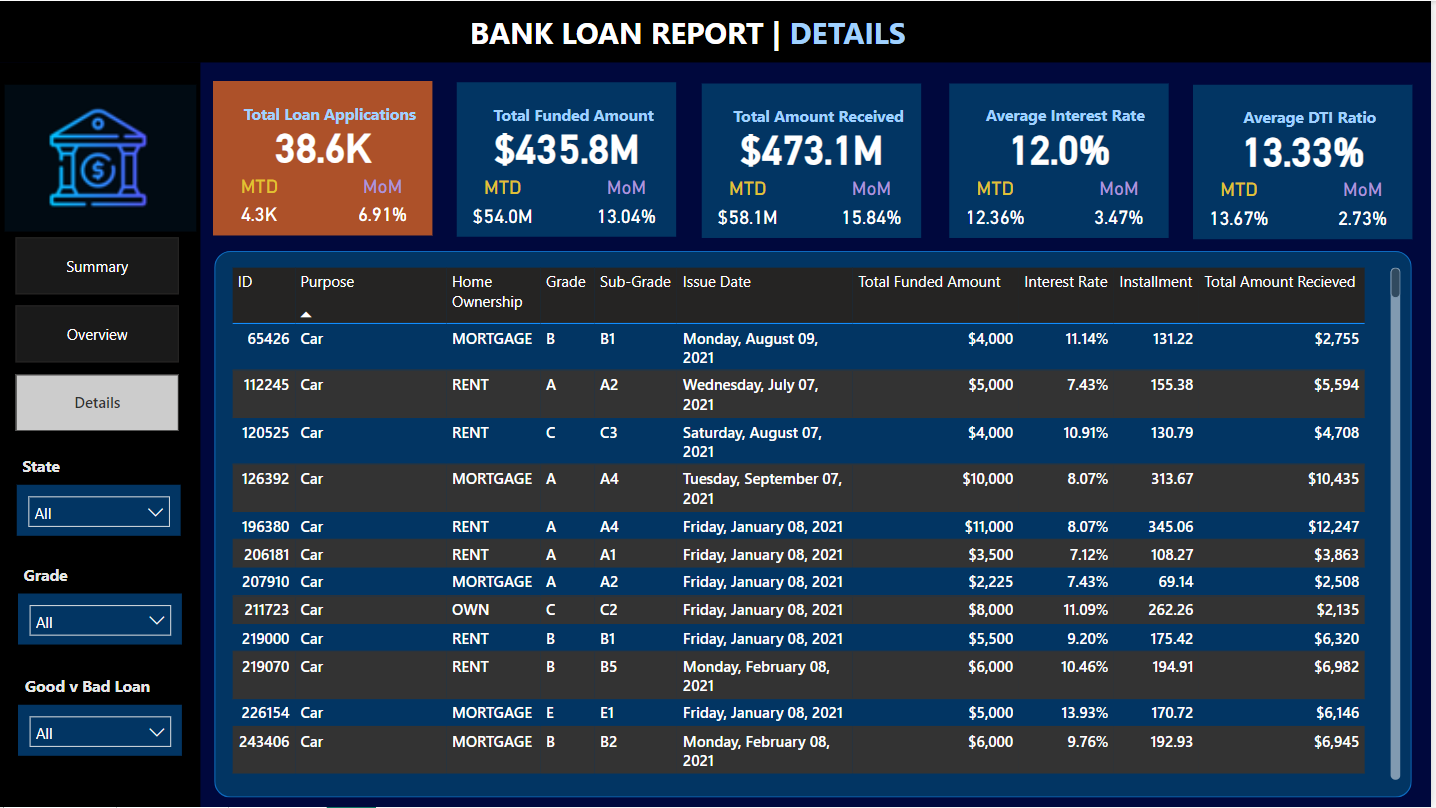

Layout of this report page (visuals, bound fields, positions):
{"tool":"powerbi","page":{"name":"Details","canvas":[1280,720],"ordinal":2},"visuals":[{"type":"shape","box":[0,0,1280.3,54.9],"z":0},{"type":"shape","box":[0,54.7,180.9,665.5],"z":1000},{"type":"group","id":"g1","title":"Group 1","box":[192.1,71.5,196.5,137.3],"z":2000},{"type":"shape","box":[192.1,71.5,196,138],"z":3000,"group":"g1"},{"type":"group","id":"g2","title":"Group 1","box":[409.8,72.6,195.4,137.3],"z":3000},{"type":"shape","box":[409.8,72.6,196,138],"z":3000,"group":"g2"},{"type":"shape","box":[628.7,73.7,196,138],"z":3000,"group":"g3"},{"type":"shape","box":[849.8,73.7,196,138],"z":3000,"group":"g4"},{"type":"shape","box":[1067.5,74.8,196,138],"z":3000,"group":"g5"},{"type":"group","id":"g3","title":"Group 1","box":[628.7,73.7,196.5,136.2],"z":4000},{"type":"card","fields":{"Values":["financial_loan.Total Loan Applications"]},"box":[204.1,101.5,172,54],"z":4000,"group":"g1"},{"type":"card","fields":{"Values":["financial_loan.Total Funded Amount"]},"box":[421.8,102.6,172,54],"z":4000,"group":"g2"},{"type":"card","fields":{"Values":["financial_loan.Total Amount Recieved"]},"box":[640.7,103.7,172,54],"z":4000,"group":"g3"},{"type":"card","fields":{"Values":["financial_loan.Average Interest Rate"]},"box":[861.8,103.7,172,54],"z":4000,"group":"g4"},{"type":"card","fields":{"Values":["financial_loan.Average DTI Ratio"]},"box":[1079.5,104.8,172,54],"z":4000,"group":"g5"},{"type":"group","id":"g4","title":"Group 1","box":[849.8,73.7,195.4,137.3],"z":5000},{"type":"textbox","box":[204.1,85.5,184,30],"z":5000,"group":"g1"},{"type":"textbox","box":[421.8,86.6,184,30],"z":5000,"group":"g2"},{"type":"textbox","box":[861.1,87.5,184.9,30.2],"z":5000,"group":"g4"},{"type":"textbox","box":[640.7,87.7,184,30],"z":5000,"group":"g3"},{"type":"textbox","box":[1079.5,88.8,184,30],"z":5000,"group":"g5"},{"type":"group","id":"g5","title":"Group 1","box":[1067.5,74.8,196.5,136.2],"z":6000},{"type":"card","title":"MTD","fields":{"Values":["financial_loan.MTD Loan Applications"]},"box":[204.1,155.5,58,54],"z":6000,"group":"g1"},{"type":"card","title":"MTD","fields":{"Values":["financial_loan.MTD Funded Amount"]},"box":[409.8,156.6,82,54],"z":6000,"group":"g2"},{"type":"card","title":"MTD","fields":{"Values":["financial_loan.MTD Amount Recieved"]},"box":[628.7,157.7,82,54],"z":6000,"group":"g3"},{"type":"card","title":"MTD","fields":{"Values":["financial_loan.MTD Average Interest Rate"]},"box":[849.8,157.7,82,54],"z":6000,"group":"g4"},{"type":"card","title":"MTD","fields":{"Values":["financial_loan.MTD Average DTI Ratio"]},"box":[1067.5,158.8,82,54],"z":6000,"group":"g5"},{"type":"shape","box":[193,223.3,1069.8,488.4],"z":7000},{"type":"card","title":"MoM","fields":{"Values":["financial_loan.MoM Loan Applicstion"]},"box":[312.1,155.5,64,54],"z":8000,"group":"g1"},{"type":"card","title":"MoM","fields":{"Values":["financial_loan.MoM Funded Amount"]},"box":[529.8,156.6,64,54],"z":8000,"group":"g2"},{"type":"card","title":"MoM","fields":{"Values":["financial_loan.MoM Amount Recieved"]},"box":[748.7,157.7,64,54],"z":8000,"group":"g3"},{"type":"card","title":"MoM","fields":{"Values":["financial_loan.MoM Average Interest Rate"]},"box":[969.8,157.7,64,54],"z":8000,"group":"g4"},{"type":"card","title":"MoM","fields":{"Values":["financial_loan.MoM Average DTI Ratio"]},"box":[1187.5,158.8,64,54],"z":8000,"group":"g5"},{"type":"textbox","box":[16.8,401.1,72,31.2],"z":8000},{"type":"slicer","fields":{"Values":["financial_loan.address_state"]},"box":[16.8,432.3,146.5,45.6],"z":9000},{"type":"textbox","box":[18.2,498.5,72,31.2],"z":10000},{"type":"slicer","fields":{"Values":["financial_loan.grade"]},"box":[18.2,529.7,146.5,45.6],"z":11000},{"type":"textbox","box":[18.6,597.7,134.9,31.4],"z":12000},{"type":"slicer","fields":{"Values":["financial_loan.Good v Bad Loans"]},"box":[18.2,628.6,146.5,45.6],"z":13000},{"type":"tableEx","fields":{"Values":["financial_loan.id","financial_loan.purpose","financial_loan.home_ownership","financial_loan.grade","financial_loan.sub_grade","financial_loan.issue_date","financial_loan.Total Funded Amount","Sum(financial_loan.int_rate)","Sum(financial_loan.installment)","financial_loan.Total Amount Recieved"]},"box":[203.5,233.7,1054.7,467.4],"z":16000},{"type":"textbox","box":[416,4,448,48],"z":17000},{"type":"pageNavigator","box":[15.9,211.5,146.3,173.1],"z":18000},{"type":"image","box":[1.1,32.4,180.9,215.5],"z":19000}]}

Visuals, with their boxes in screenshot pixels (x1, y1, x2, y2), scaled from the page's 1280x720 canvas onto the 1436x808 screenshot:
shape: bbox=(0, 0, 1435, 62)
shape: bbox=(0, 61, 203, 807)
"Group 1" group: bbox=(216, 80, 436, 234)
shape: bbox=(216, 80, 435, 235)
"Group 1" group: bbox=(460, 81, 679, 236)
shape: bbox=(460, 81, 680, 236)
shape: bbox=(705, 83, 925, 238)
shape: bbox=(953, 83, 1173, 238)
shape: bbox=(1198, 84, 1417, 239)
"Group 1" group: bbox=(705, 83, 926, 236)
card - financial_loan.Total Loan Applications: bbox=(229, 114, 422, 175)
card - financial_loan.Total Funded Amount: bbox=(473, 115, 666, 176)
card - financial_loan.Total Amount Recieved: bbox=(719, 116, 912, 177)
card - financial_loan.Average Interest Rate: bbox=(967, 116, 1160, 177)
card - financial_loan.Average DTI Ratio: bbox=(1211, 118, 1404, 178)
"Group 1" group: bbox=(953, 83, 1173, 237)
textbox: bbox=(229, 96, 435, 130)
textbox: bbox=(473, 97, 680, 131)
textbox: bbox=(966, 98, 1173, 132)
textbox: bbox=(719, 98, 925, 132)
textbox: bbox=(1211, 100, 1417, 133)
"Group 1" group: bbox=(1198, 84, 1418, 237)
"MTD" card: bbox=(229, 175, 294, 235)
"MTD" card: bbox=(460, 176, 552, 236)
"MTD" card: bbox=(705, 177, 797, 238)
"MTD" card: bbox=(953, 177, 1045, 238)
"MTD" card: bbox=(1198, 178, 1290, 239)
shape: bbox=(217, 251, 1417, 799)
"MoM" card: bbox=(350, 175, 422, 235)
"MoM" card: bbox=(594, 176, 666, 236)
"MoM" card: bbox=(840, 177, 912, 238)
"MoM" card: bbox=(1088, 177, 1160, 238)
"MoM" card: bbox=(1332, 178, 1404, 239)
textbox: bbox=(19, 450, 100, 485)
slicer - financial_loan.address_state: bbox=(19, 485, 183, 536)
textbox: bbox=(20, 559, 101, 594)
slicer - financial_loan.grade: bbox=(20, 594, 185, 646)
textbox: bbox=(21, 671, 172, 706)
slicer - financial_loan.Good v Bad Loans: bbox=(20, 705, 185, 757)
tableEx - financial_loan.id x financial_loan.purpose: bbox=(228, 262, 1412, 787)
textbox: bbox=(467, 4, 969, 58)
pageNavigator: bbox=(18, 237, 182, 432)
image: bbox=(1, 36, 204, 278)
